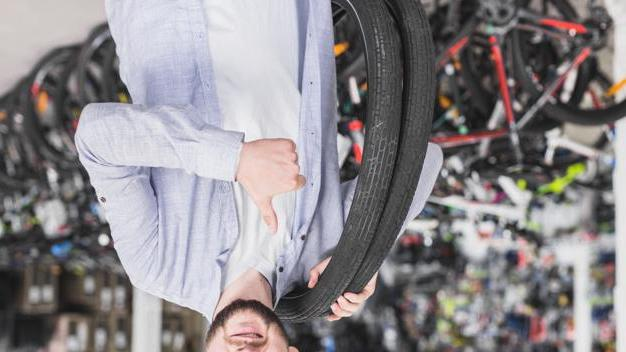thumbsdown: (257, 138, 306, 235)
